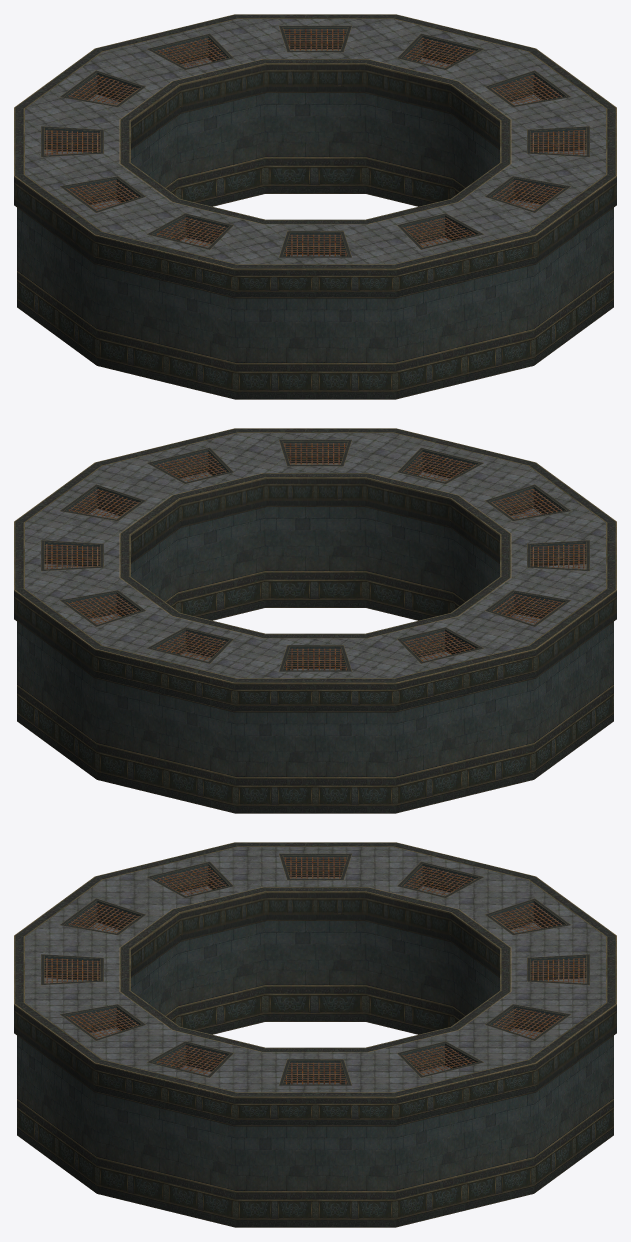
File: environment_Building_yingdi_hantianta_001_e.FBX
3 renders of one model, top to bottom at view 1: azimuth 30°, elevation 25°; view 2: azimuth 150°, elevation 25°; view 3: azimuth 270°, elevation 25°, orthographic.
Visible parts, largest first — view 1: environment_Building_yingdi_hantianta_001_e03, environment_Building_yingdi_hantianta_001_e04, environment_Building_yingdi_hantianta_001_e01, environment_Building_yingdi_hantianta_001_e02; view 2: environment_Building_yingdi_hantianta_001_e03, environment_Building_yingdi_hantianta_001_e04, environment_Building_yingdi_hantianta_001_e01, environment_Building_yingdi_hantianta_001_e02; view 3: environment_Building_yingdi_hantianta_001_e03, environment_Building_yingdi_hantianta_001_e04, environment_Building_yingdi_hantianta_001_e01, environment_Building_yingdi_hantianta_001_e02.
Part boxes in pixels (x1,y1,x2,y2): environment_Building_yingdi_hantianta_001_e03: [17, 27, 613, 399]; environment_Building_yingdi_hantianta_001_e04: [14, 14, 616, 298]; environment_Building_yingdi_hantianta_001_e01: [25, 19, 605, 264]; environment_Building_yingdi_hantianta_001_e02: [44, 29, 586, 256]; environment_Building_yingdi_hantianta_001_e03: [17, 441, 613, 813]; environment_Building_yingdi_hantianta_001_e04: [14, 428, 616, 712]; environment_Building_yingdi_hantianta_001_e01: [25, 433, 605, 678]; environment_Building_yingdi_hantianta_001_e02: [44, 443, 586, 670]; environment_Building_yingdi_hantianta_001_e03: [17, 855, 613, 1227]; environment_Building_yingdi_hantianta_001_e04: [14, 842, 616, 1126]; environment_Building_yingdi_hantianta_001_e01: [25, 847, 605, 1092]; environment_Building_yingdi_hantianta_001_e02: [44, 857, 586, 1084].
Size of the model in its own units: 3822 by 3822 by 921.
Materials: 3 (3 with a texture image).
